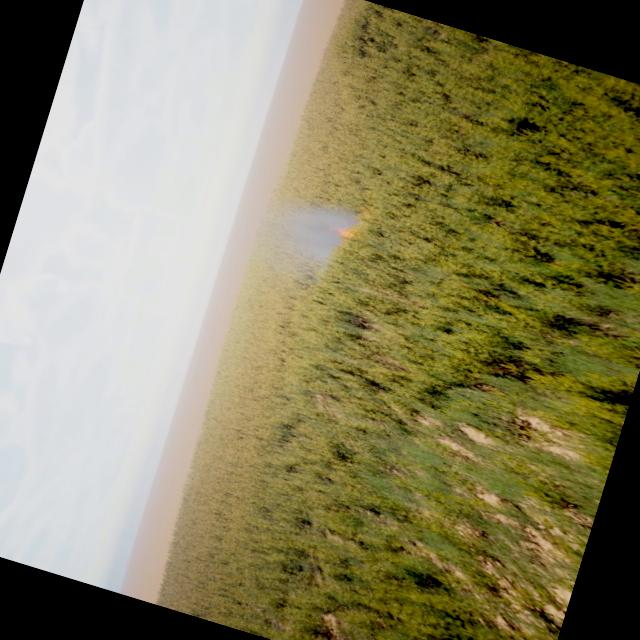fire: (322, 220, 356, 240)
smoke: (247, 186, 368, 290)
